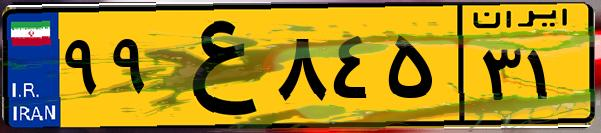1: (525, 38, 570, 115)
3: (475, 38, 525, 113)
4: (330, 28, 385, 110)
5: (385, 28, 445, 110)
8: (270, 28, 330, 110)
9: (57, 26, 110, 100), (110, 28, 158, 98)
ع: (158, 12, 270, 120)
